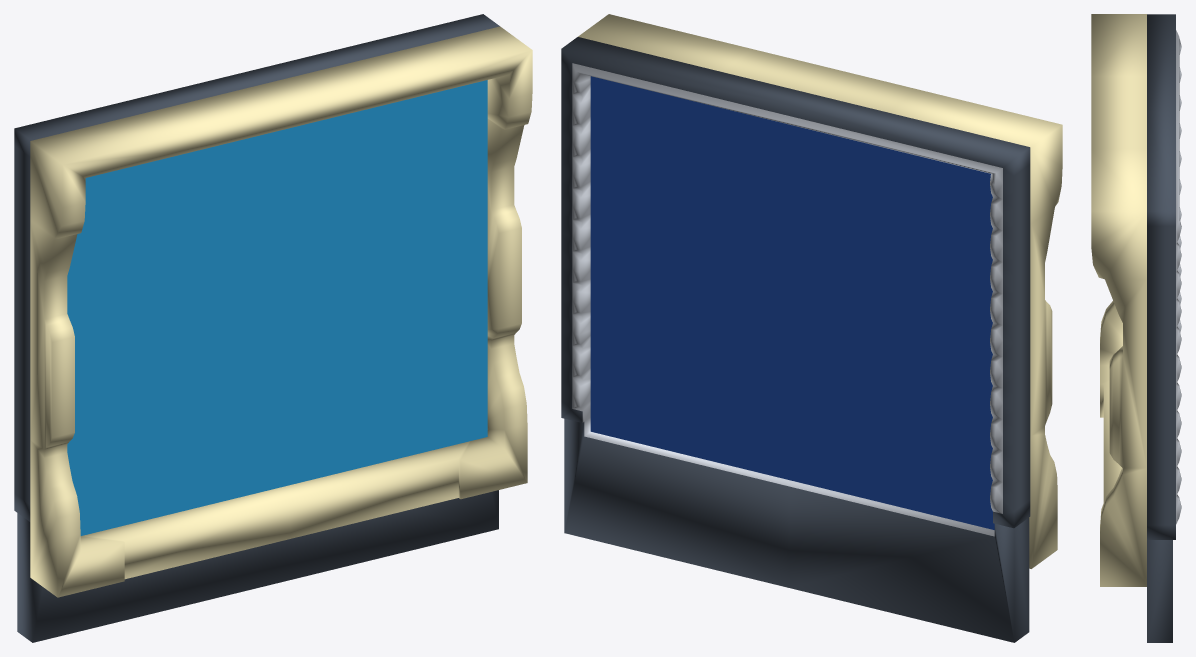
The model's file is MM_Wall_Window_Edit.fbx.
The picture shows the model from 3 angles, left to right: view 1: azimuth 30°, elevation 25°; view 2: azimuth 150°, elevation 25°; view 3: azimuth 270°, elevation 25°; orthographic projection. The views are drawn at different scales.
Parts seen in each view (by area): view 1: Wall_Window_Edit.003, Wall_Window_Edit.001, Wall_Window_Edit.002; view 2: Wall_Window_Edit, Wall_Window_Edit.002, Wall_Window_Edit.001; view 3: Wall_Window_Edit.001, Wall_Window_Edit.002.
Part boxes in pixels (x1,y1,x2,y2): Wall_Window_Edit.003: (67,80,487,535); Wall_Window_Edit.001: (30,26,532,597); Wall_Window_Edit.002: (14,14,499,642); Wall_Window_Edit: (590,76,994,529); Wall_Window_Edit.002: (561,37,1030,642); Wall_Window_Edit.001: (578,14,1062,568); Wall_Window_Edit.001: (1091,14,1146,586); Wall_Window_Edit.002: (1147,14,1181,642).
Size of the model in its own units: 200 by 205 by 38.71.
